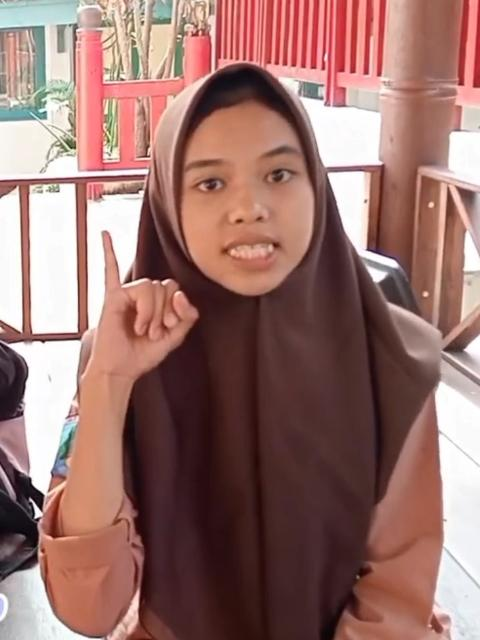I: (96, 228, 202, 386)
